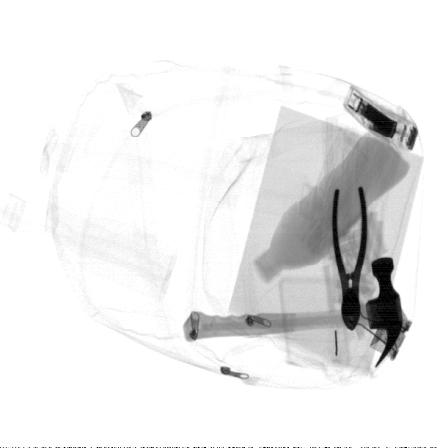Hammer: (183, 258, 402, 368)
Pliers: (332, 187, 367, 332)
